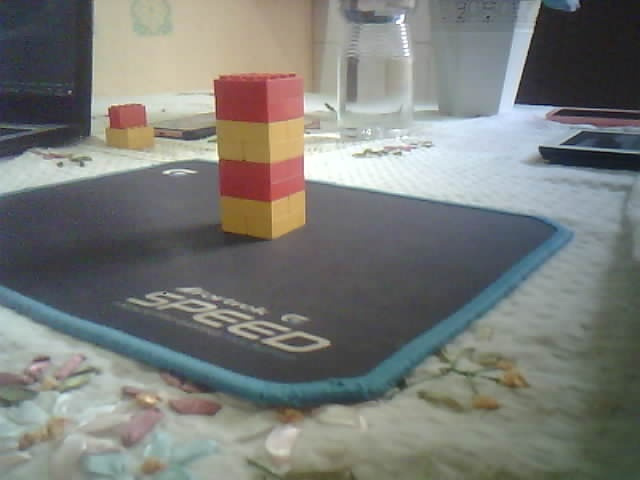lego: (212, 72, 306, 241), (102, 102, 155, 150)
